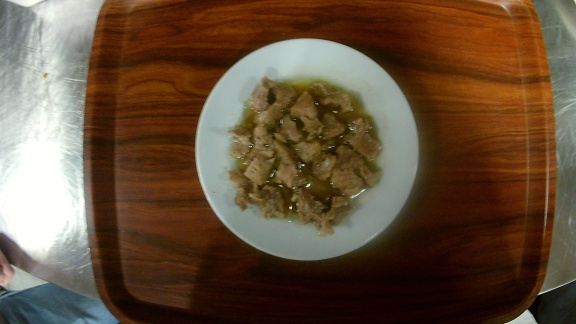etsote: (195, 38, 423, 262)
